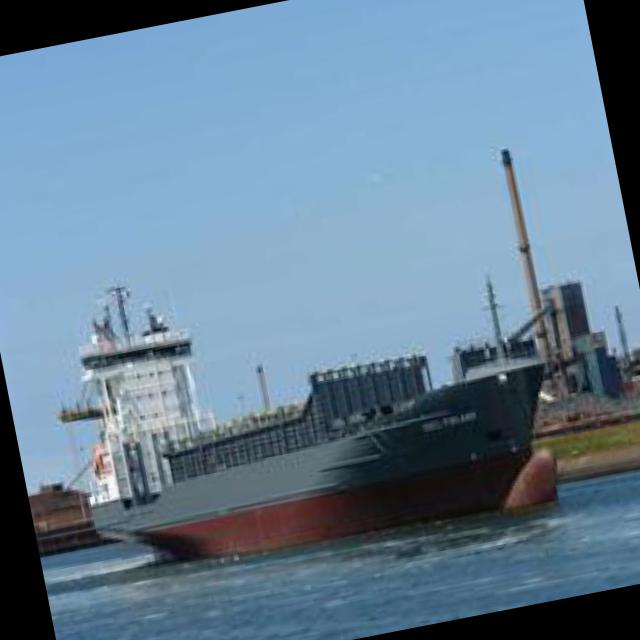boat: (46, 274, 566, 592)
